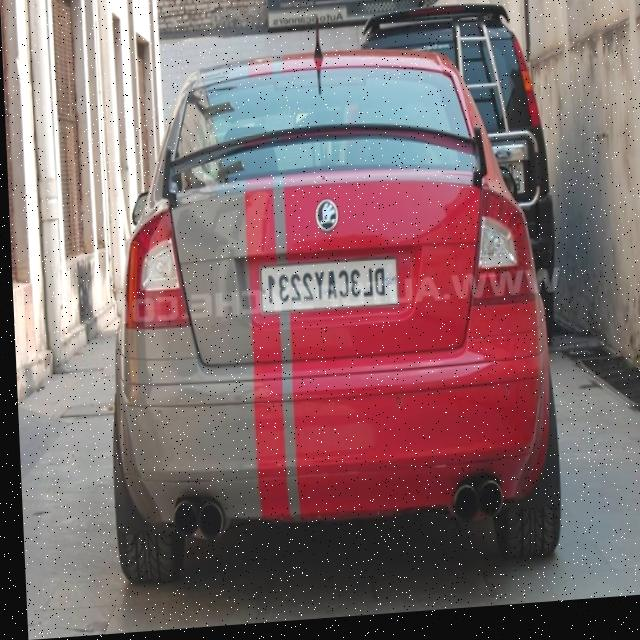plate: (256, 259, 398, 319)
